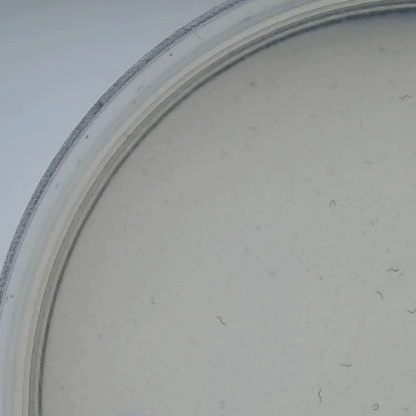worm: (360, 394, 384, 415), (370, 280, 388, 307), (311, 380, 327, 408), (332, 357, 359, 372), (316, 194, 343, 209), (209, 312, 231, 329), (380, 261, 402, 277), (394, 88, 416, 103), (402, 298, 416, 318), (145, 294, 161, 311), (362, 157, 379, 172)
